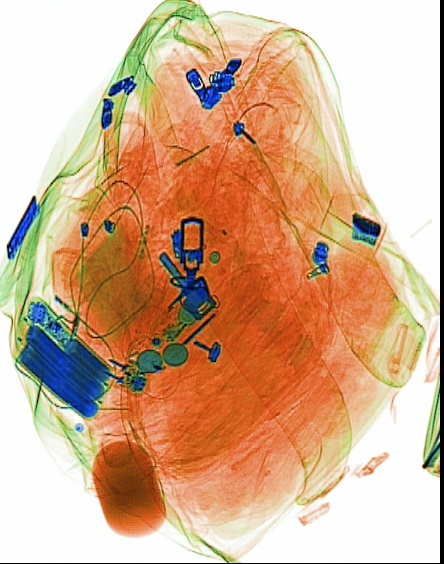powerbank: (8, 291, 111, 420)
